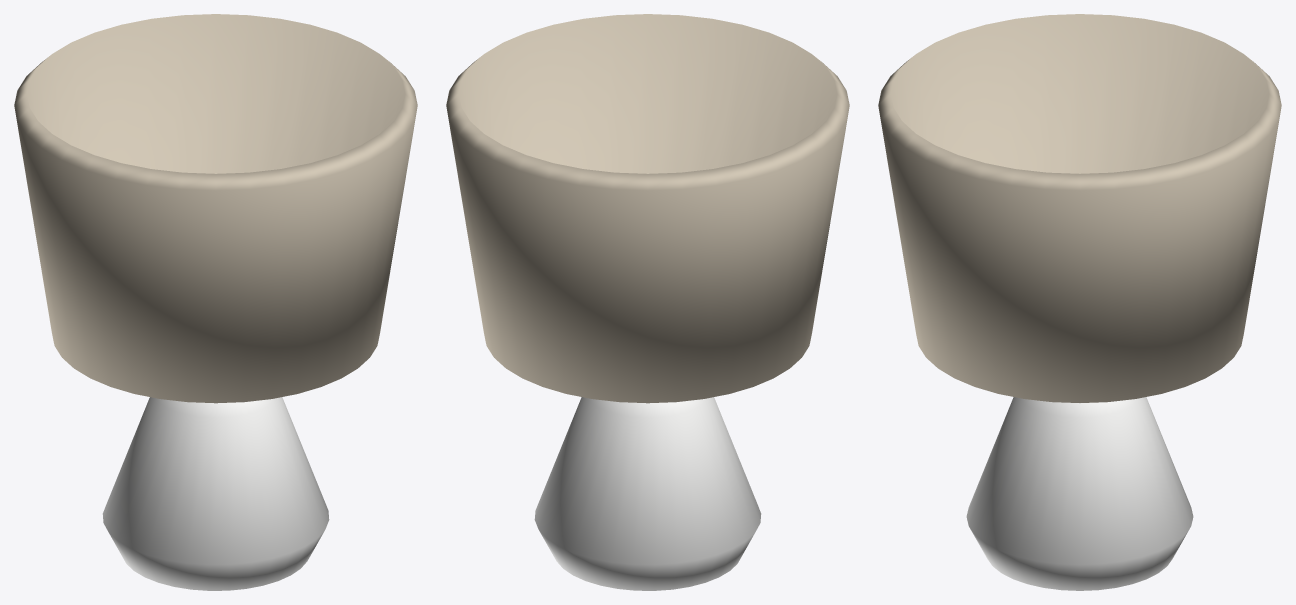
File: bed3_lamp.glb
3 renders of one model, left to right at view 1: azimuth 30°, elevation 25°; view 2: azimuth 150°, elevation 25°; view 3: azimuth 270°, elevation 25°, orthographic.
Visible parts, largest first — view 1: bed3_lamp; view 2: bed3_lamp; view 3: bed3_lamp.
Part boxes in pixels (x1,y1,x2,y2): bed3_lamp: [14, 14, 417, 590]; bed3_lamp: [446, 14, 849, 590]; bed3_lamp: [878, 14, 1281, 590].
Bounding box in the file's own units: 0.32 × 0.4 × 0.32.
